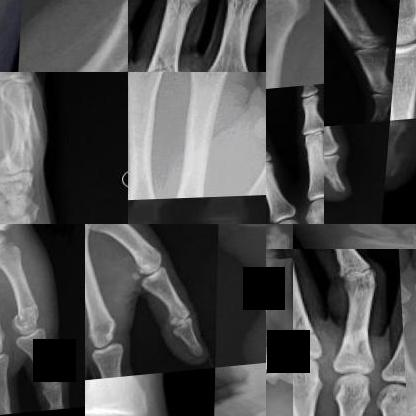fracture: (14, 123, 49, 164), (293, 306, 319, 350), (141, 47, 188, 71), (12, 308, 46, 341), (331, 235, 412, 248), (266, 364, 293, 396), (266, 224, 292, 249)
